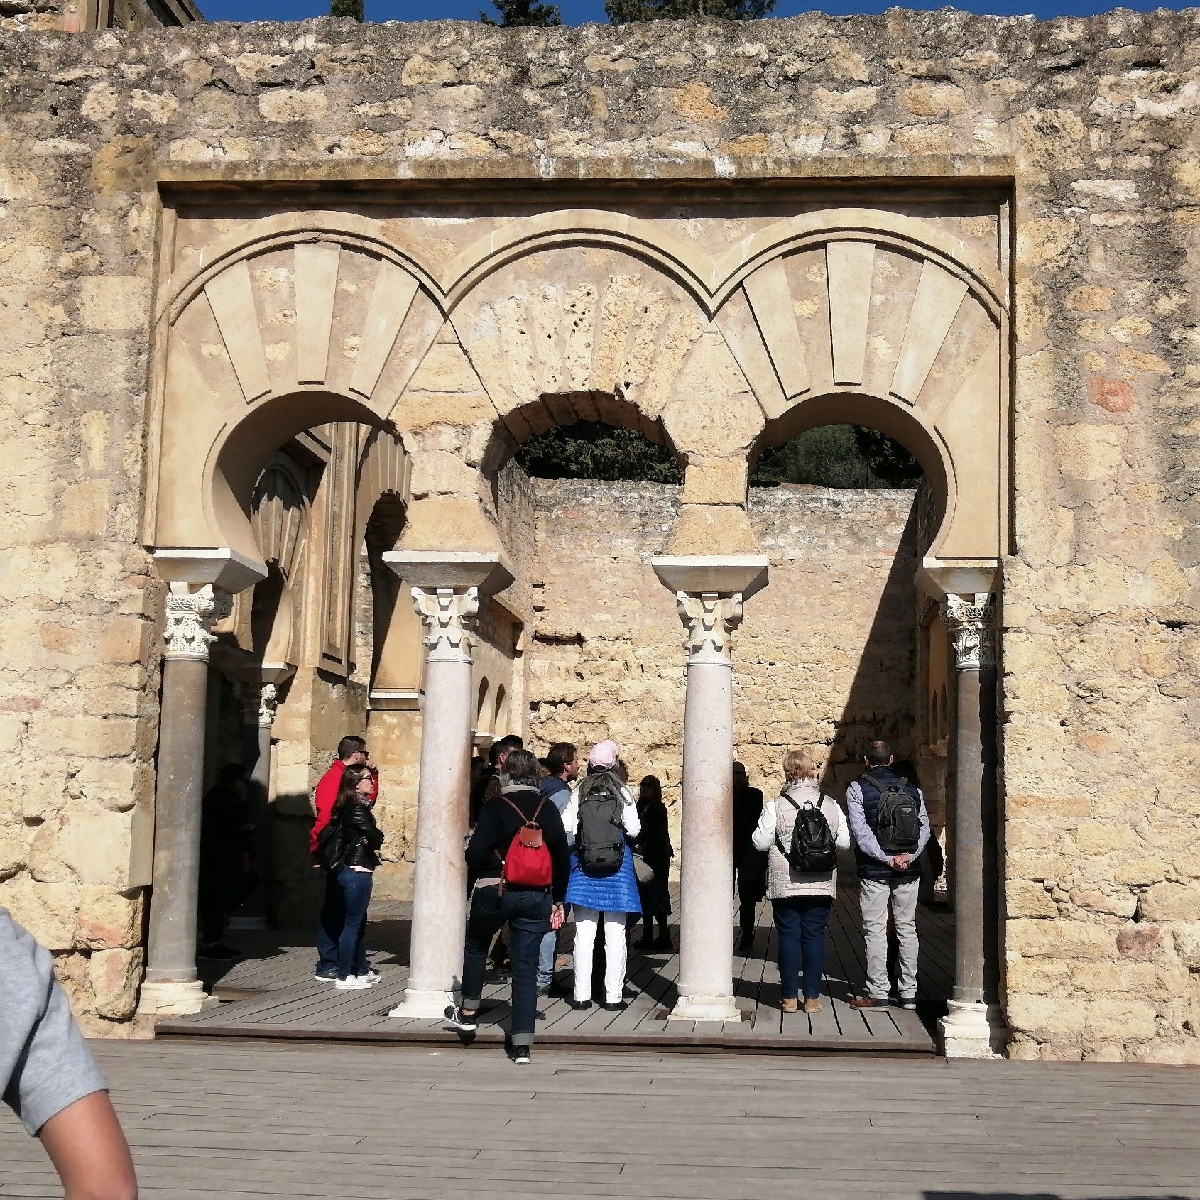arco-herradura: (705, 373, 971, 633), (457, 375, 714, 616), (181, 367, 433, 595)
